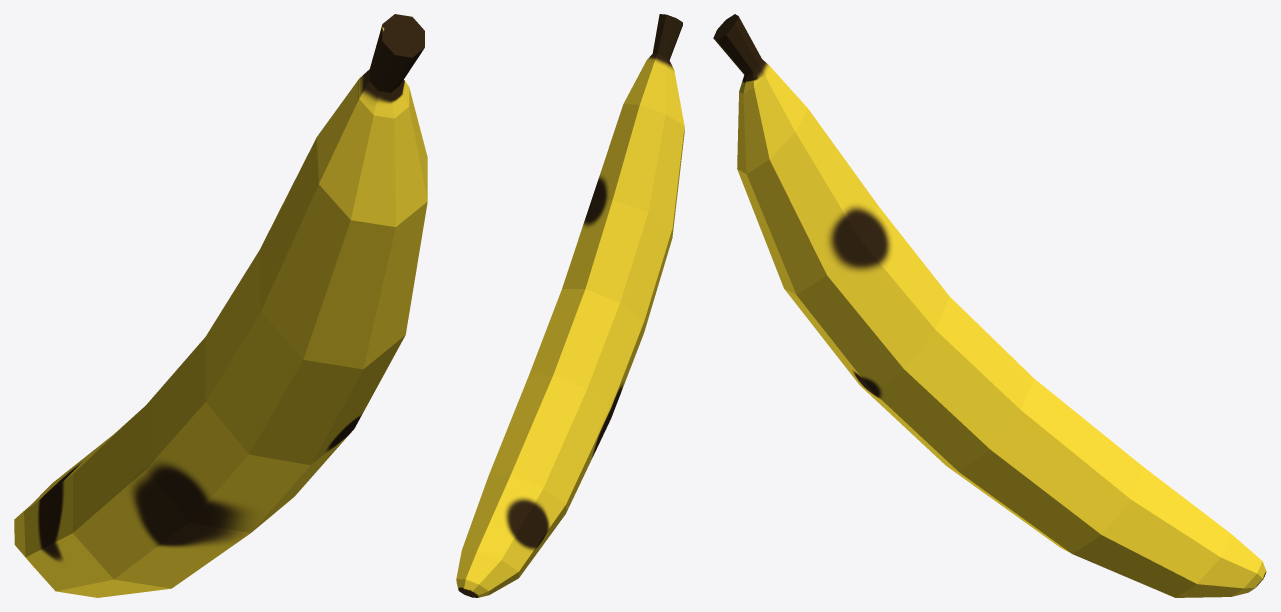
File: banana.fbx
3 views of the same model, side by side, from view 1: azimuth 30°, elevation 25°; view 2: azimuth 150°, elevation 25°; view 3: azimuth 270°, elevation 25° (orthographic). The views are drawn at different scales.
Visible parts, largest first — view 1: Cylinder; view 2: Cylinder; view 3: Cylinder.
Boxes of the visible parts, <box> form: Cylinder: <box>14,14,427,597</box>; Cylinder: <box>456,14,684,597</box>; Cylinder: <box>713,14,1266,597</box>.
Bounding box in the file's own units: 200 × 1031 × 894.
1 material, 1 textured.
